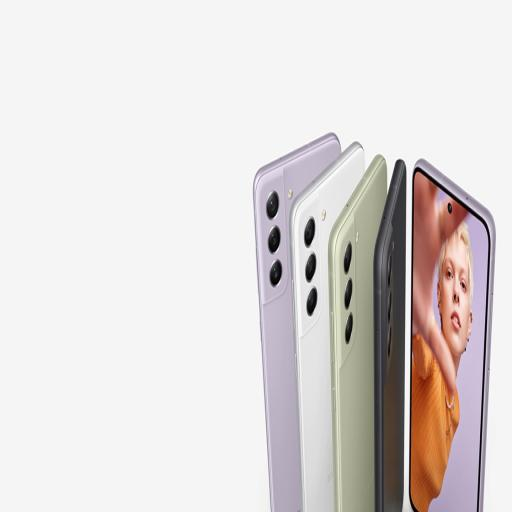phone: (409, 154, 497, 512)
